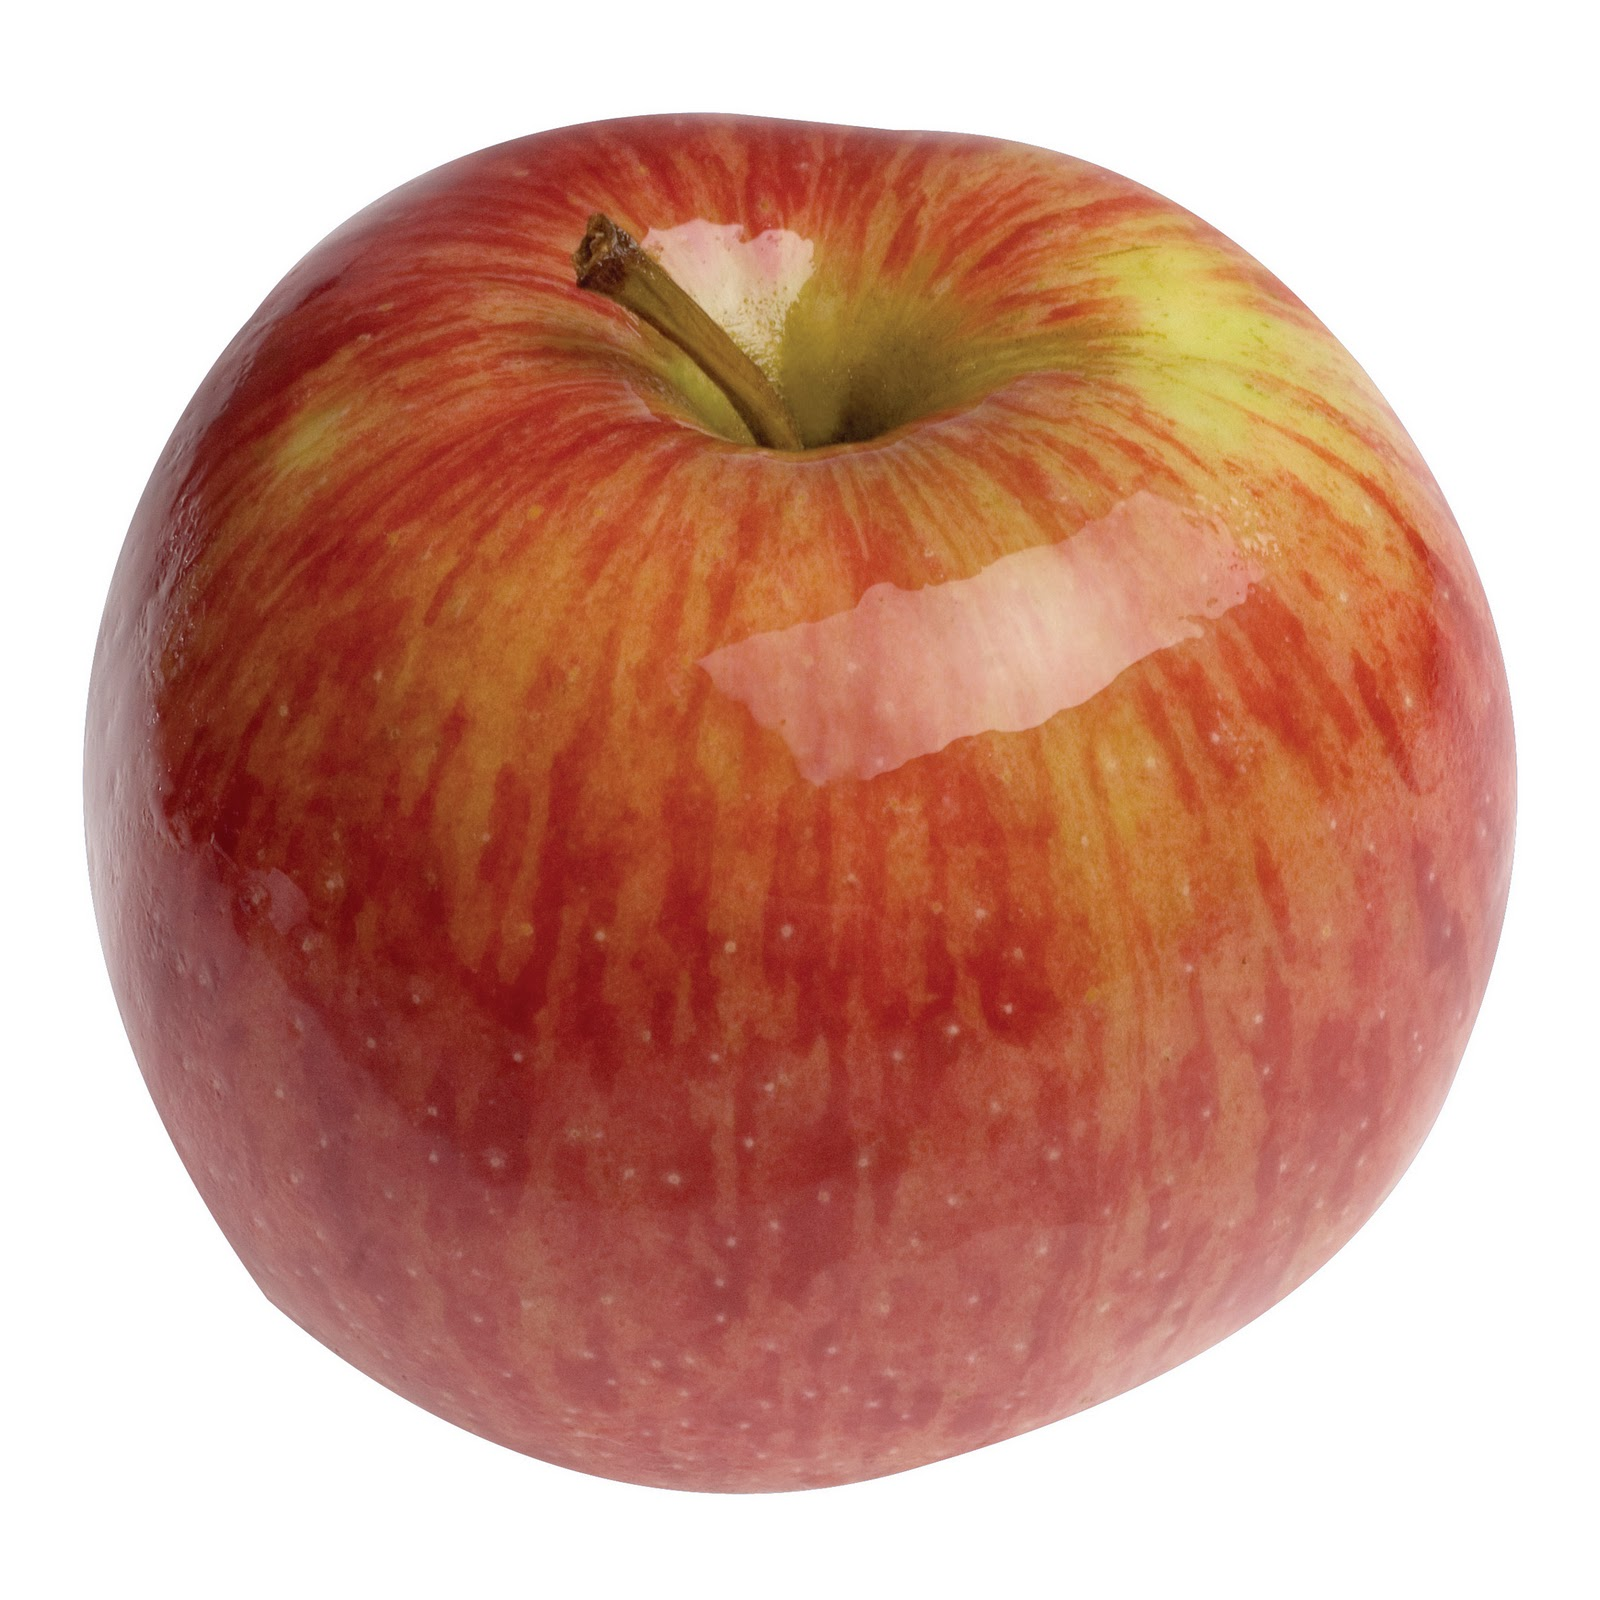apple: (75, 101, 1530, 1519)
